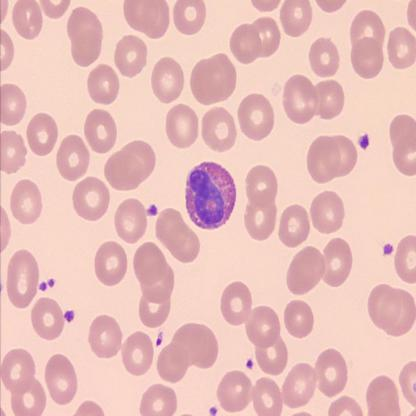Eosinophil: (181, 161, 239, 230)
